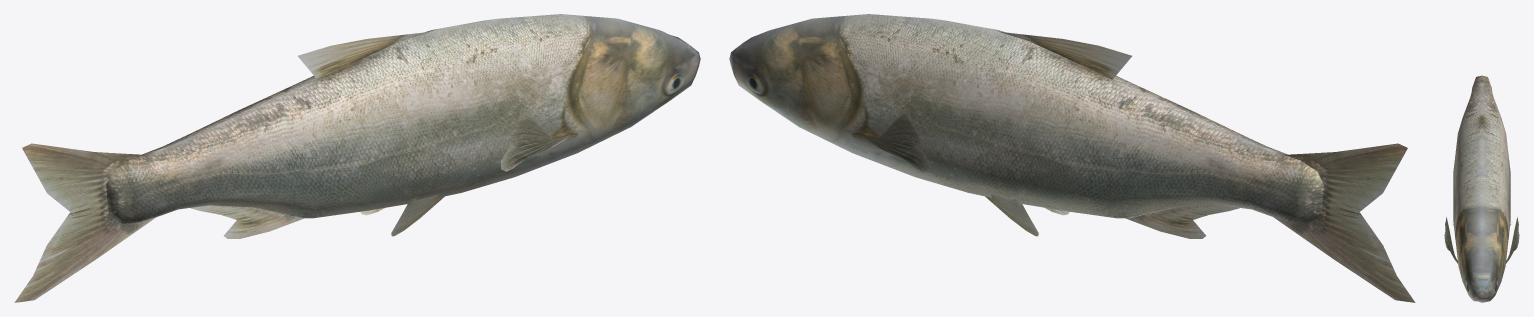
Rendered from SilverCarp.glb.
3 renders of one model, left to right at view 1: azimuth 30°, elevation 25°; view 2: azimuth 150°, elevation 25°; view 3: azimuth 270°, elevation 25°, orthographic. The views are drawn at different scales.
Parts seen in each view (by area): view 1: SilverCarp; view 2: SilverCarp; view 3: SilverCarp.
Part boxes in pixels (x1,y1,x2,y2): SilverCarp: (14, 14, 700, 302); SilverCarp: (729, 14, 1415, 302); SilverCarp: (1444, 75, 1519, 302).
Size of the model in its own units: 2 by 0.5351 by 0.2765.
Materials: 1 (1 with a texture image).
